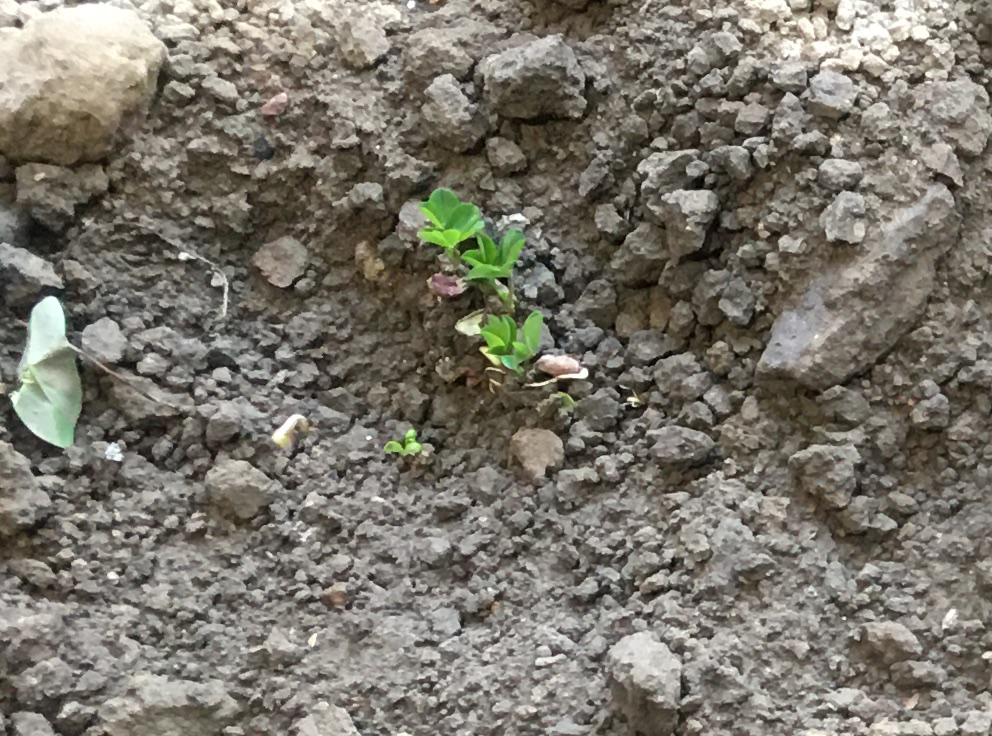block: (755, 178, 947, 405), (1, 11, 162, 165), (477, 37, 585, 125)
